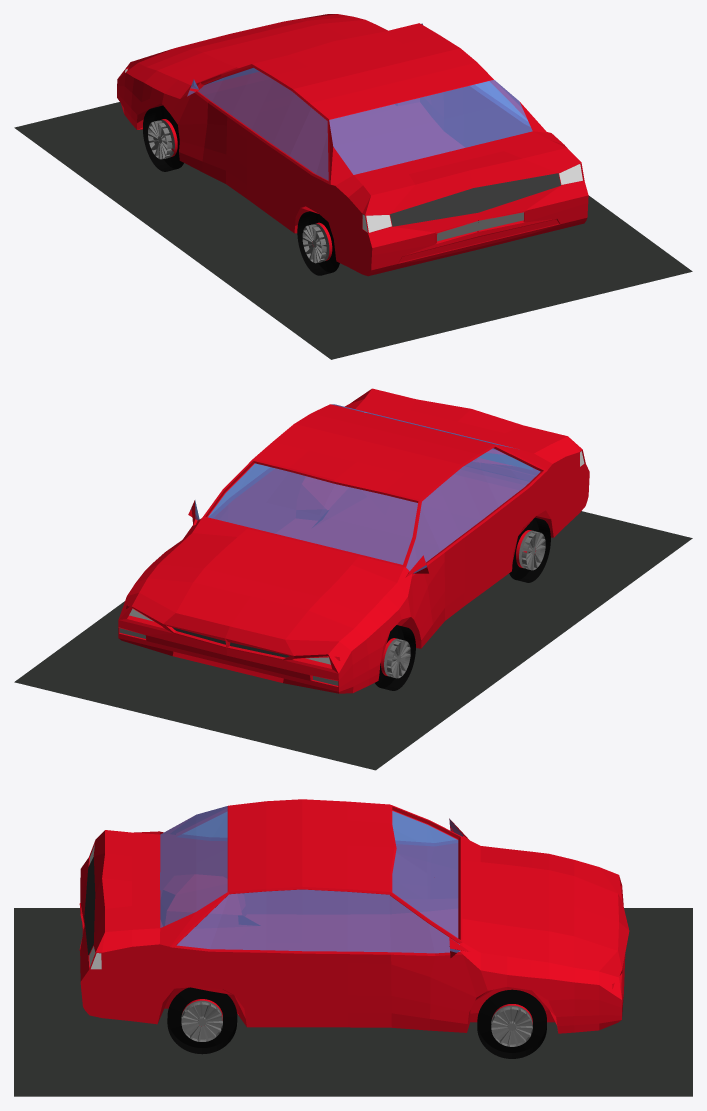
Rendered from nexia 4.fbx.
3 renders of one model, top to bottom at view 1: azimuth 30°, elevation 25°; view 2: azimuth 150°, elevation 25°; view 3: azimuth 270°, elevation 25°, orthographic. The views are drawn at different scales.
Parts seen in each view (by area): view 1: Cube, Plane; view 2: Cube, Plane; view 3: Cube, Plane.
Boxes of the visible parts, bbox=[...] form: Cube: bbox=[117, 14, 588, 276]; Plane: bbox=[14, 102, 692, 359]; Cube: bbox=[118, 388, 589, 693]; Plane: bbox=[14, 511, 692, 770]; Cube: bbox=[79, 799, 629, 1058]; Plane: bbox=[14, 908, 692, 1096].
Bounding box in the file's own units: 392 × 154 × 596.
